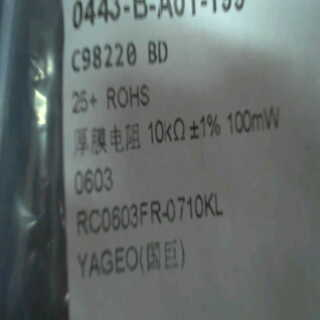10kR: (146, 115, 190, 147)
